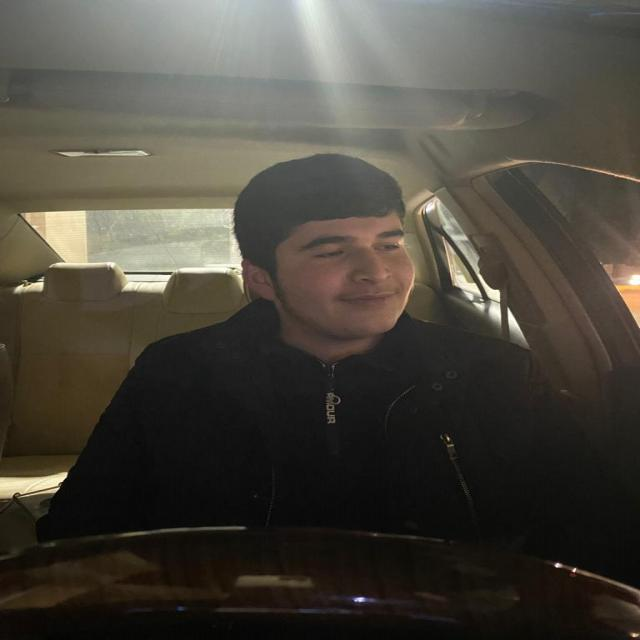person: (232, 149, 423, 344)
